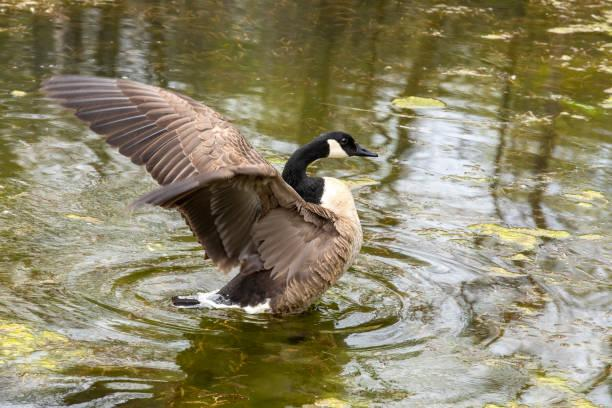Canadian-Goose: (41, 68, 379, 320)
